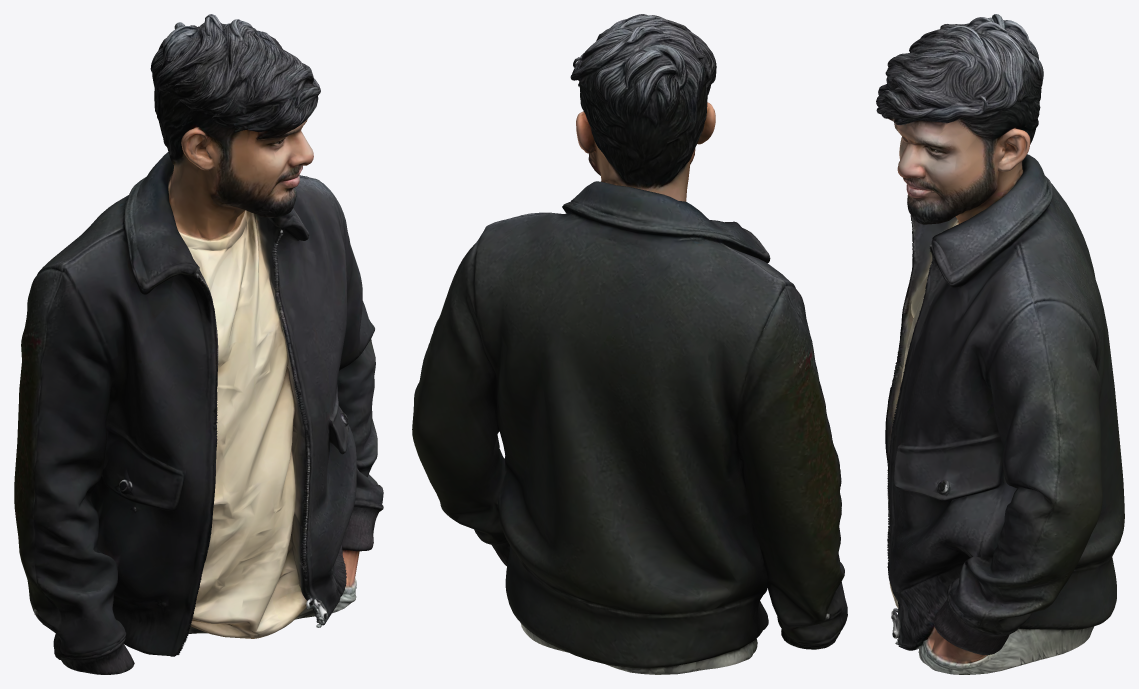
File: human.glb
The picture shows the model from 3 angles, left to right: view 1: azimuth 30°, elevation 25°; view 2: azimuth 150°, elevation 25°; view 3: azimuth 270°, elevation 25°; orthographic projection.
Parts seen in each view (by area): view 1: tripo_node_79d26b17-c99b-44f0-b8f9-bd2a7b25d259; view 2: tripo_node_79d26b17-c99b-44f0-b8f9-bd2a7b25d259; view 3: tripo_node_79d26b17-c99b-44f0-b8f9-bd2a7b25d259.
Boxes of the visible parts, x1,y1,x2,y2 form: tripo_node_79d26b17-c99b-44f0-b8f9-bd2a7b25d259: (14,14,383,674); tripo_node_79d26b17-c99b-44f0-b8f9-bd2a7b25d259: (412,14,847,674); tripo_node_79d26b17-c99b-44f0-b8f9-bd2a7b25d259: (876,14,1124,674).
Bounding box in the file's own units: 0.6639 × 0.9779 × 0.3718.
1 material, 1 textured.
